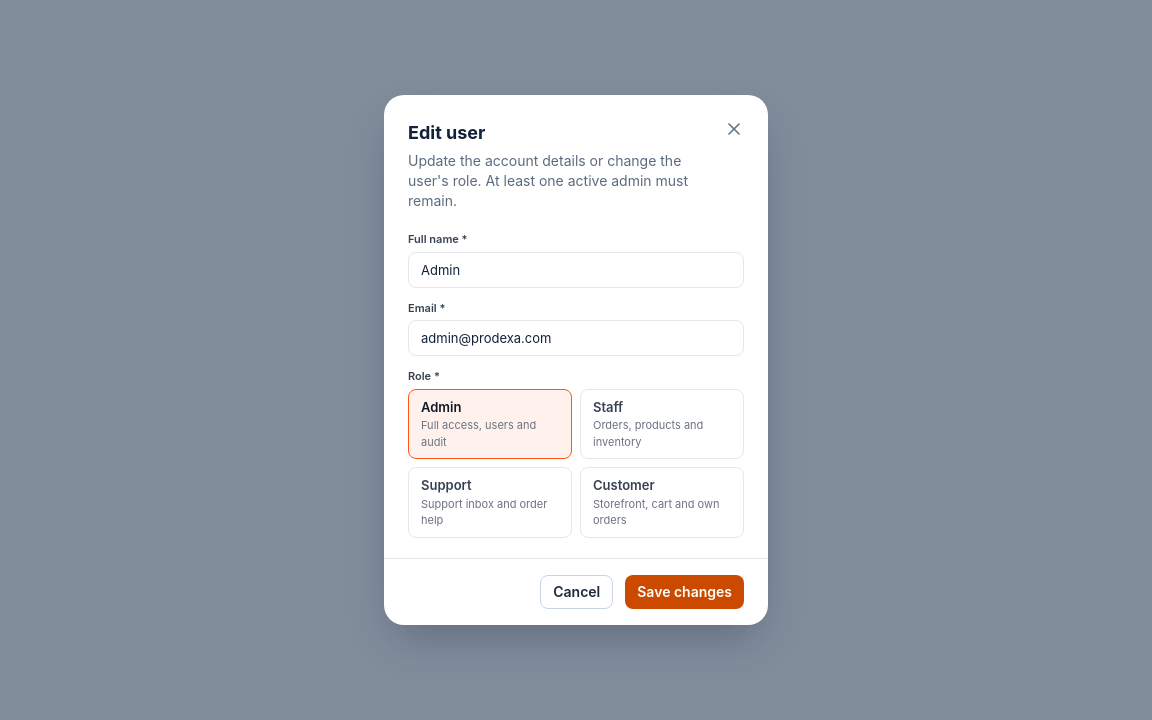
Test: UserFormDialog role handling › shows the server message when the last active admin cannot be demoted (409)
Click the button "Customer Storefront, cart and own orders": (662, 503) [580,467,744,538]
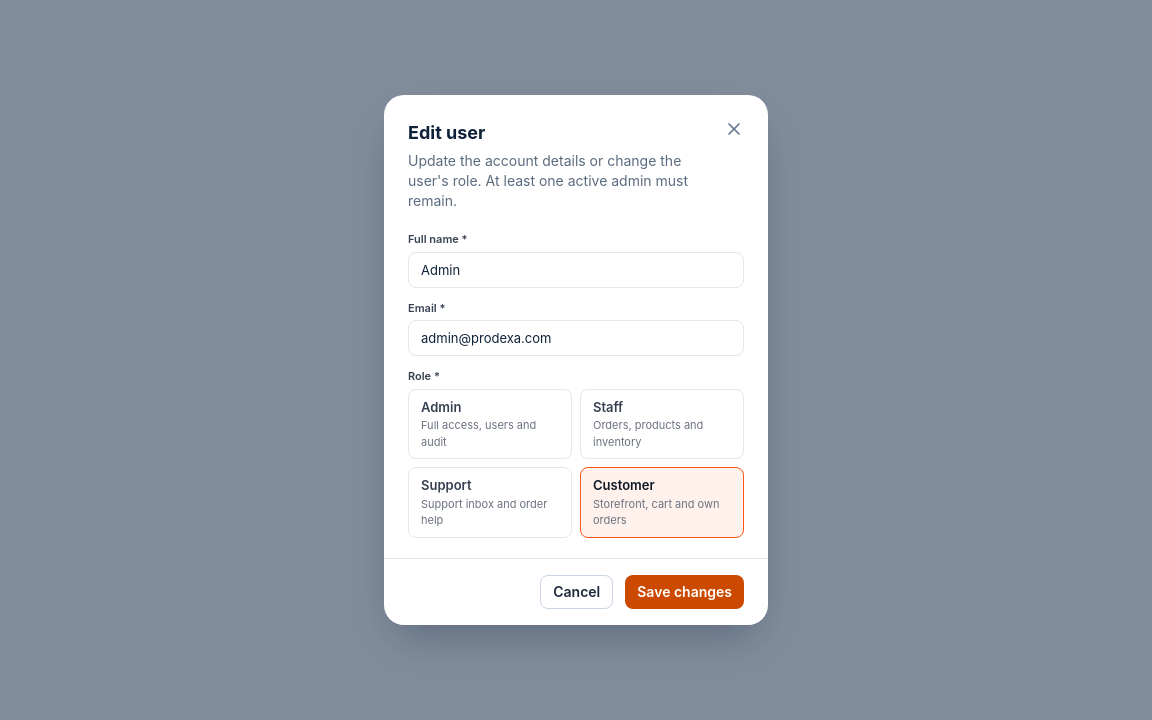
Click the button "Save changes": (685, 592) [625,575,744,609]
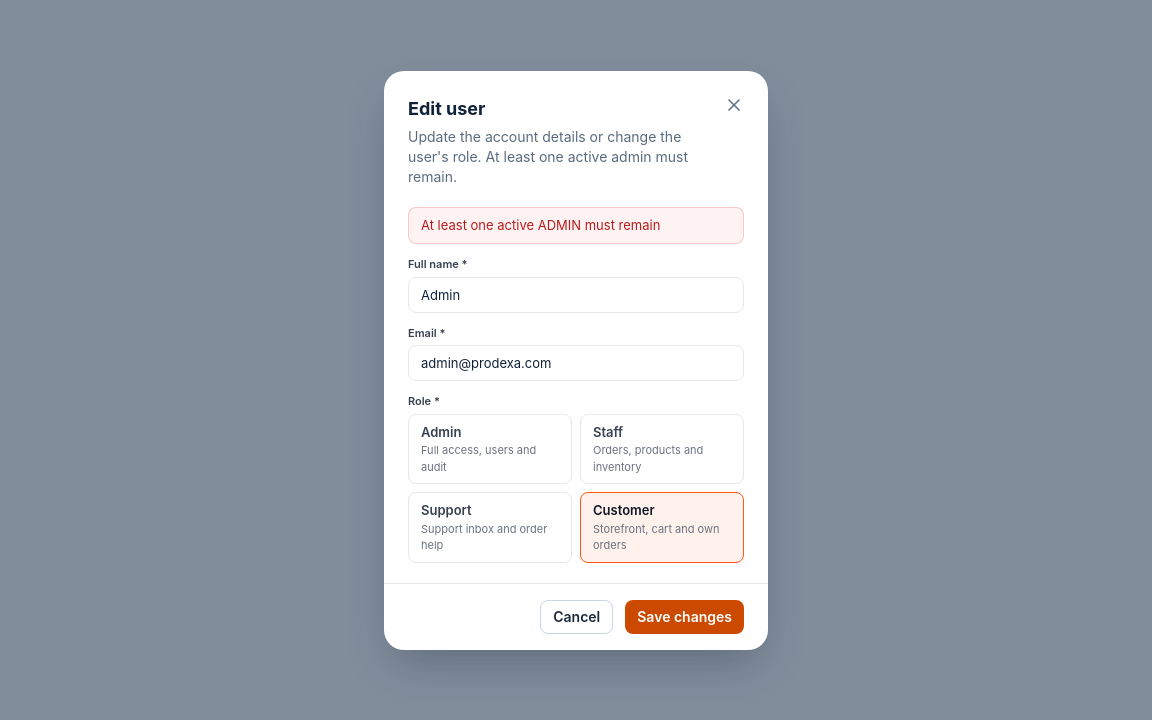
Result: the message reads "At least one active ADMIN must remain" at [421,216,660,232]
